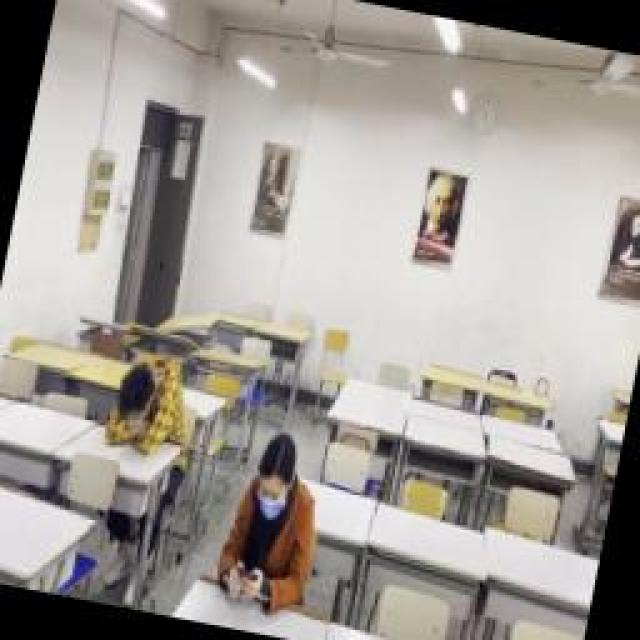phone: (215, 425, 333, 613)
sleep: (105, 350, 193, 460)
